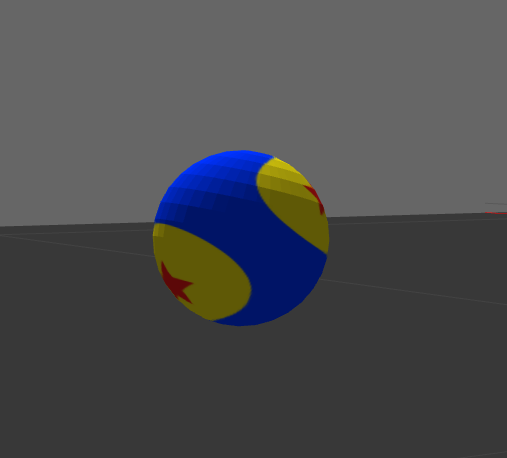toy story ball: (152, 149, 329, 325)
